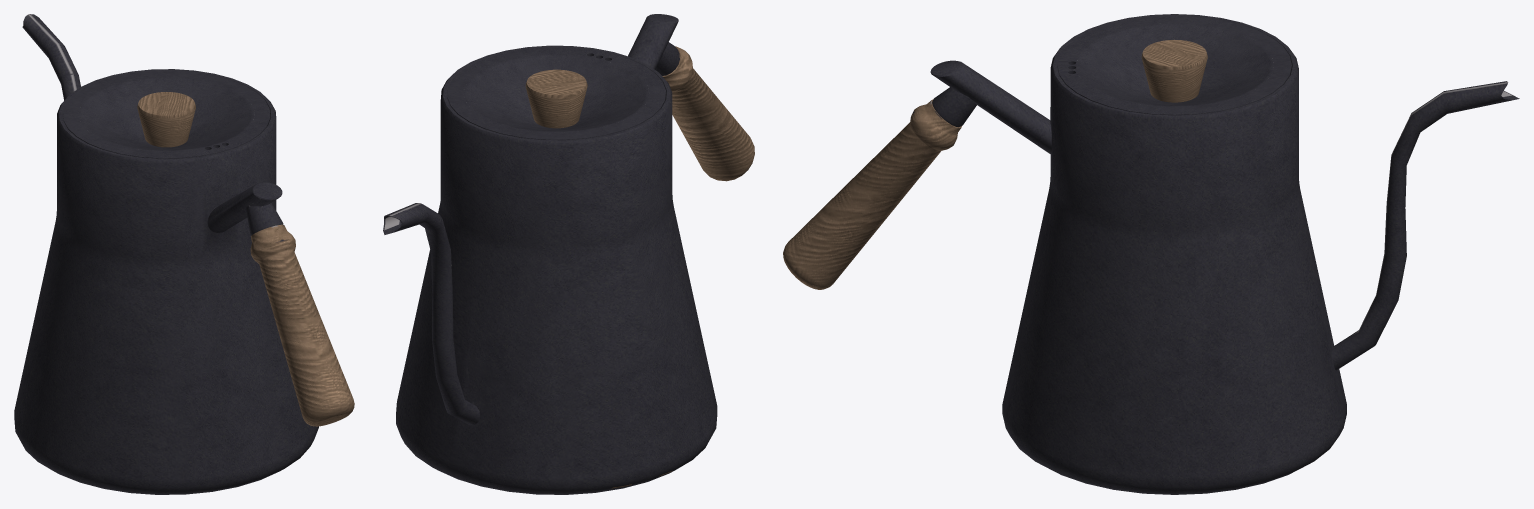
File: coffee pot_1.glb
The picture shows the model from 3 angles, left to right: view 1: azimuth 30°, elevation 25°; view 2: azimuth 150°, elevation 25°; view 3: azimuth 270°, elevation 25°; orthographic projection. The views are drawn at different scales.
Visible parts, largest first — view 1: d7e15badbd234036ae12bd1294256094; view 2: d7e15badbd234036ae12bd1294256094; view 3: d7e15badbd234036ae12bd1294256094.
Boxes of the visible parts, x1,y1,x2,y2 form: d7e15badbd234036ae12bd1294256094: (14, 14, 354, 494); d7e15badbd234036ae12bd1294256094: (383, 14, 754, 494); d7e15badbd234036ae12bd1294256094: (783, 14, 1519, 494).
Bounding box in the file's own units: 0.4677 × 0.5626 × 1.
2 materials, 2 textured.
